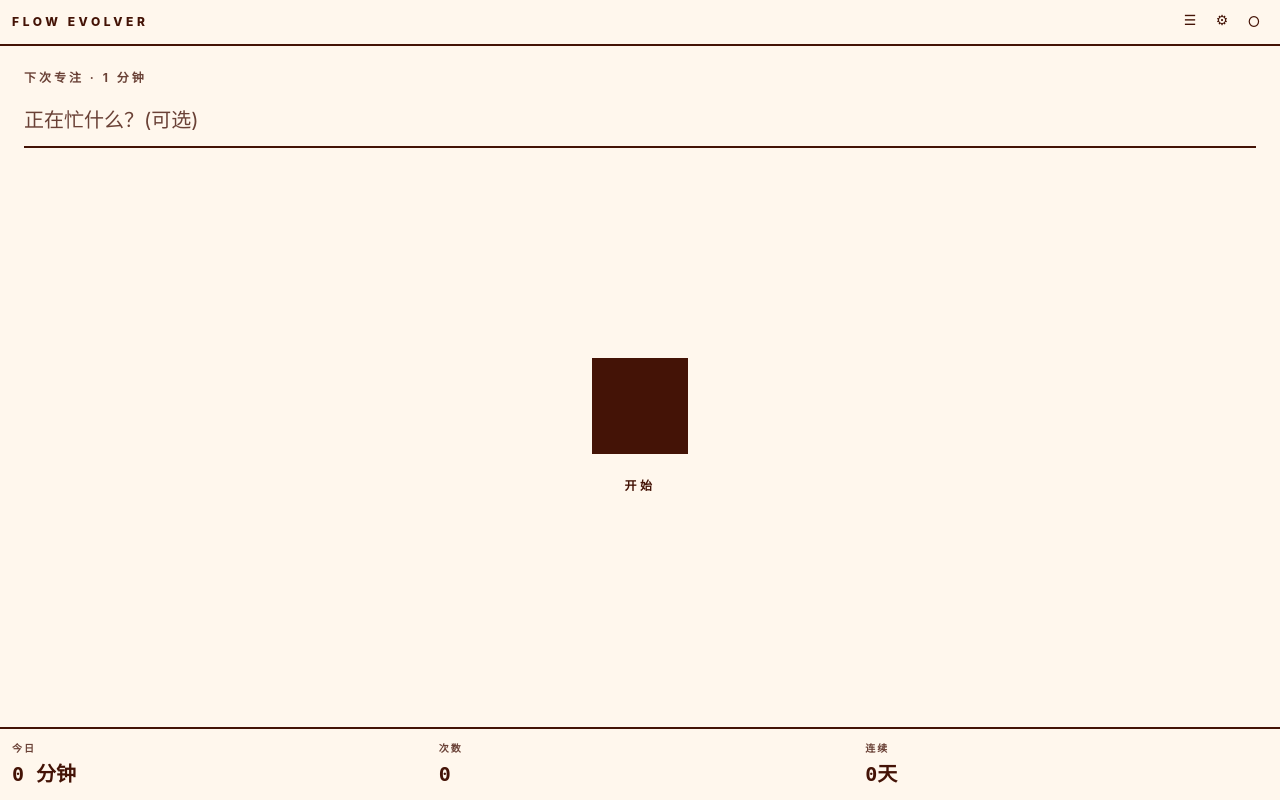
settings sheet › settings and history buttons are hidden while a session runs
expect the text "下次专注 · 1 分钟" is shown: met, box [24, 70, 147, 85]
Click the button named "开始专注" at (640, 406), box [592, 358, 688, 454]
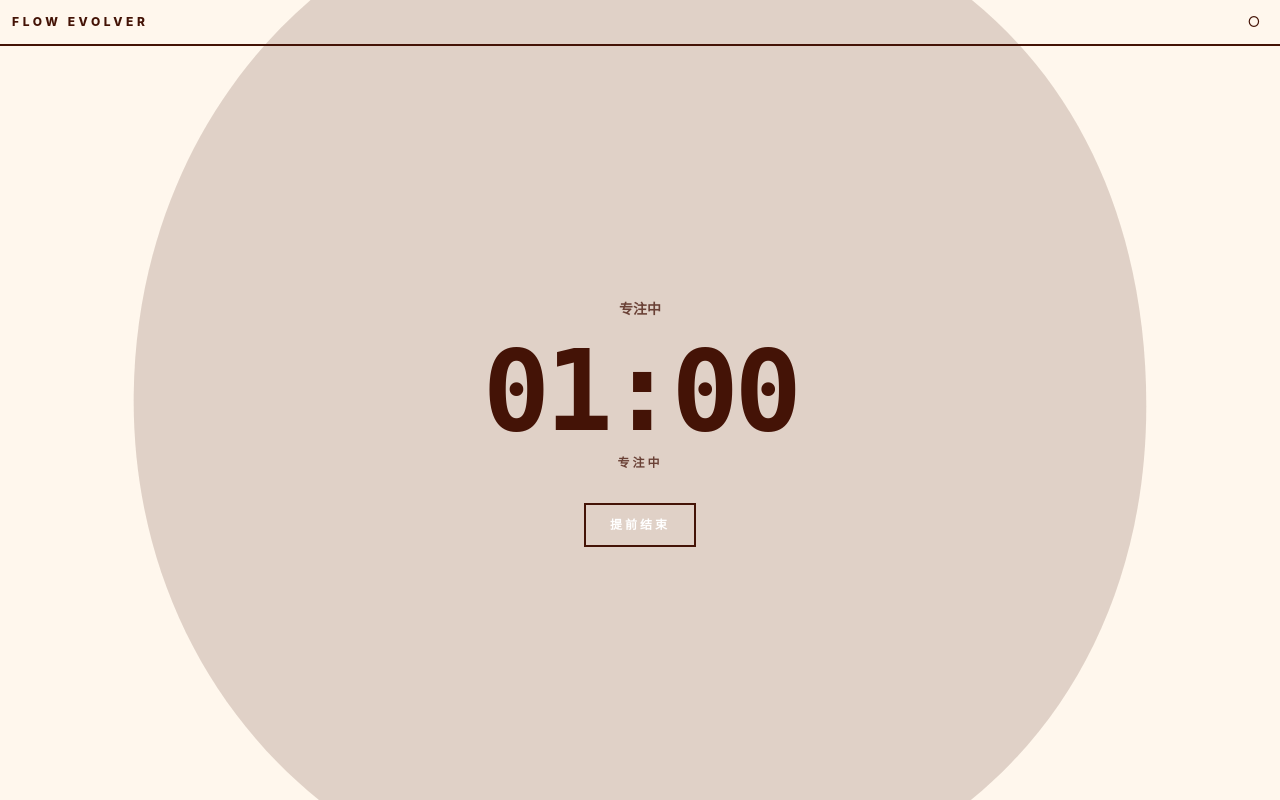
expect the button "提前结束" is shown: met, box [584, 503, 696, 547]
expect the button "设置" is gone: met
expect the button "历史" is gone: met
